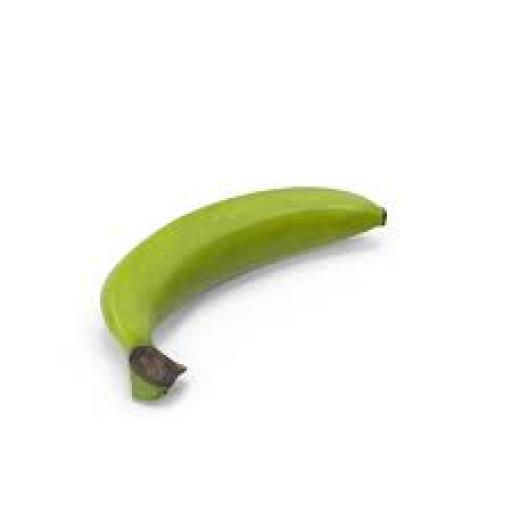banana-unripe: (56, 117, 431, 437)
